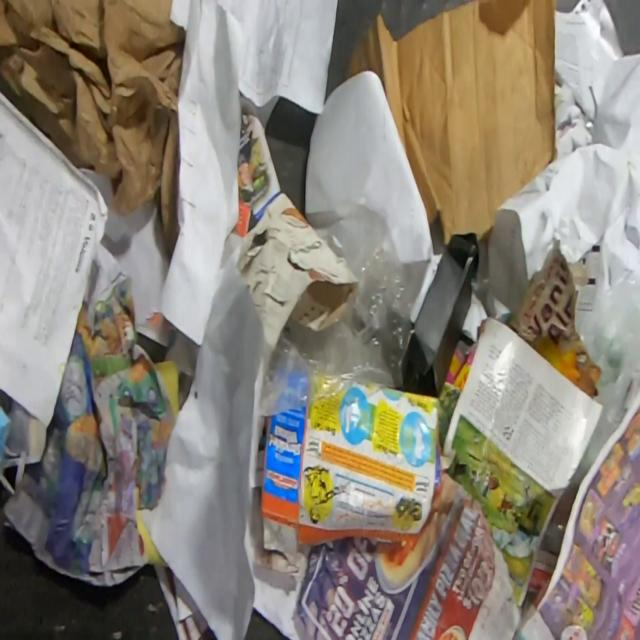cardboard: (344, 0, 556, 243), (261, 387, 440, 550), (402, 215, 478, 397), (234, 113, 281, 237)
soft_plastic: (262, 196, 418, 414), (570, 240, 640, 492)
